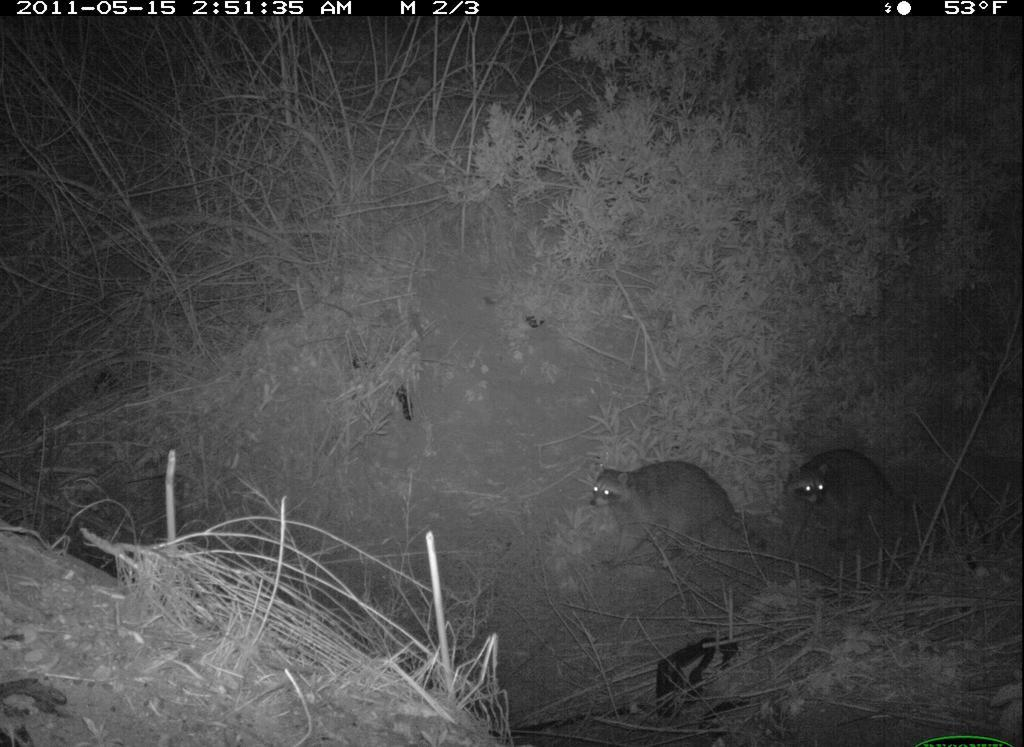raccoon: (575, 457, 770, 573), (780, 440, 925, 555)
